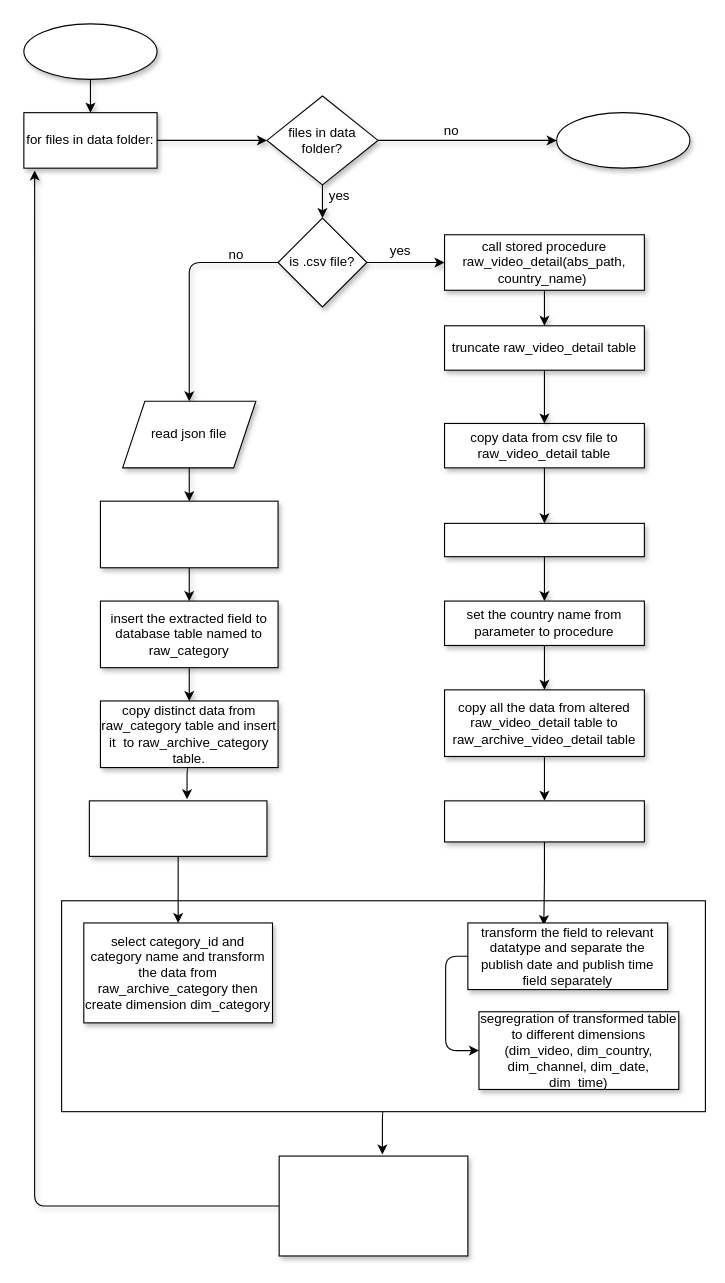
This 725x1283 diagram has some shape labels left out. The shapes that lost their labels are listed below. From the top down, each one's centre as x and y in pixels, then its label:
At [91,52]: "start".
At [624,141]: "stop".
At [190,536]: "extract kind, etag, id, channelID, title, asignable field from nested json file".
At [545,541]: "alter raw_video_table and add country column".
At [179,829]: "drop the raw_category table".
At [545,822]: "alter raw_video_detail table and drop country column".
At [374,1207]: "insert date to central_fact table as the fact table".
